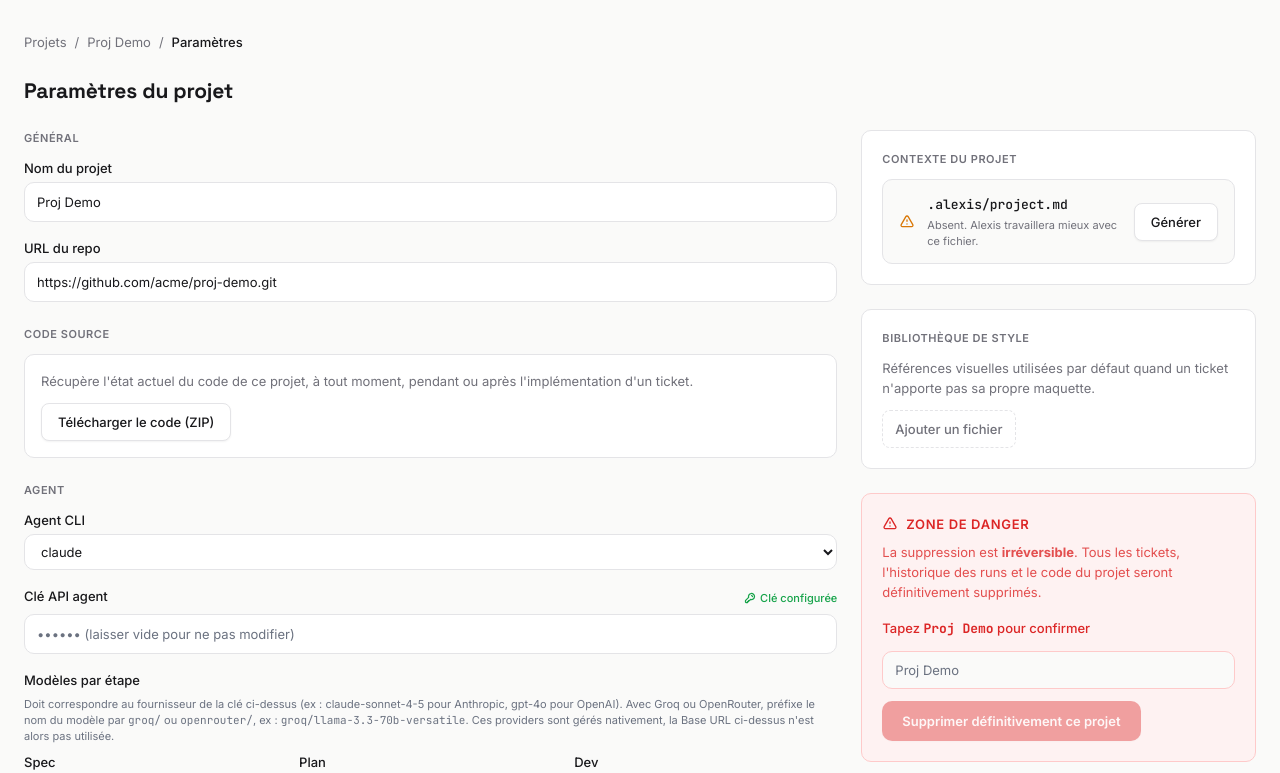
Test case: ProjectSettingsPage › hides the Base URL field for claude and shows it for aider
Expected: the field labelled "Nom du projet" is shown, [24, 182, 837, 222]
Expected: the field labelled "Base URL de l'API" is not shown
Select "aider" in the dropdown labelled "Agent CLI" at [431, 552], box [24, 534, 837, 570]
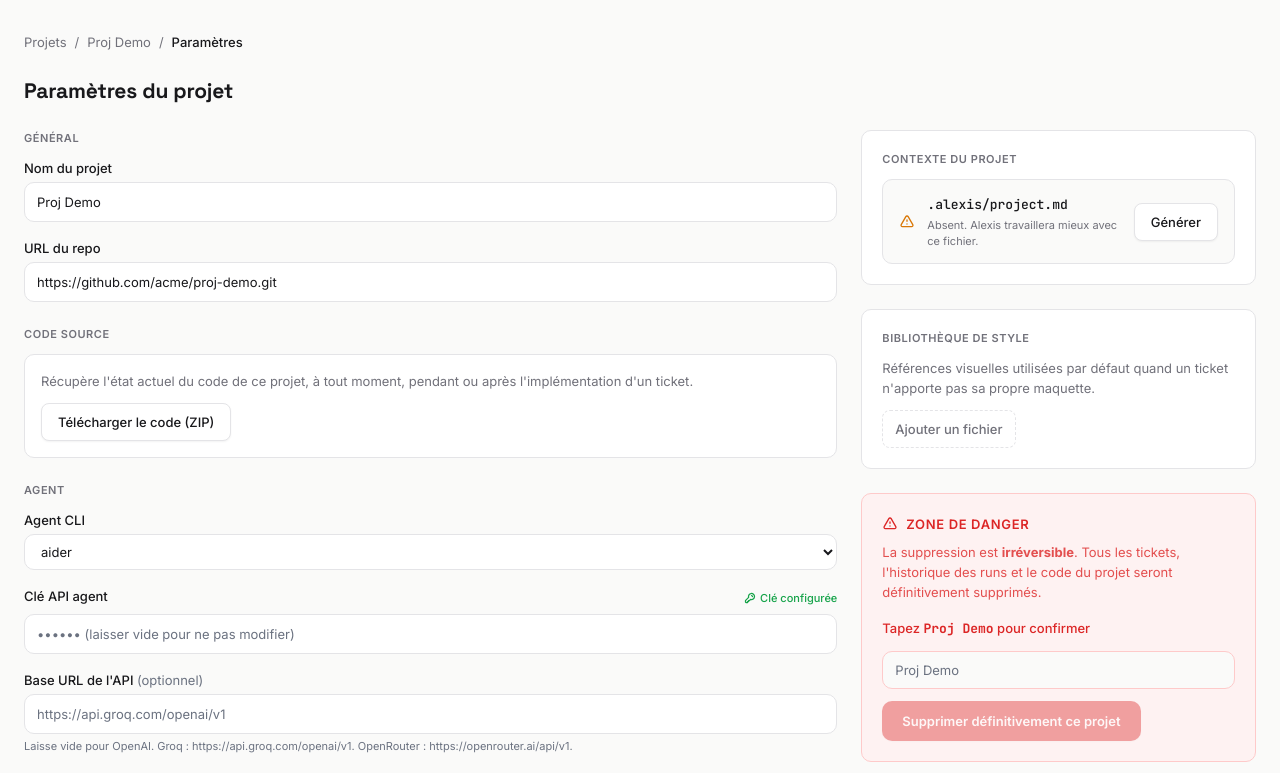
Expected: the field labelled "Base URL de l'API (optionnel)" is shown, [24, 694, 837, 734]
